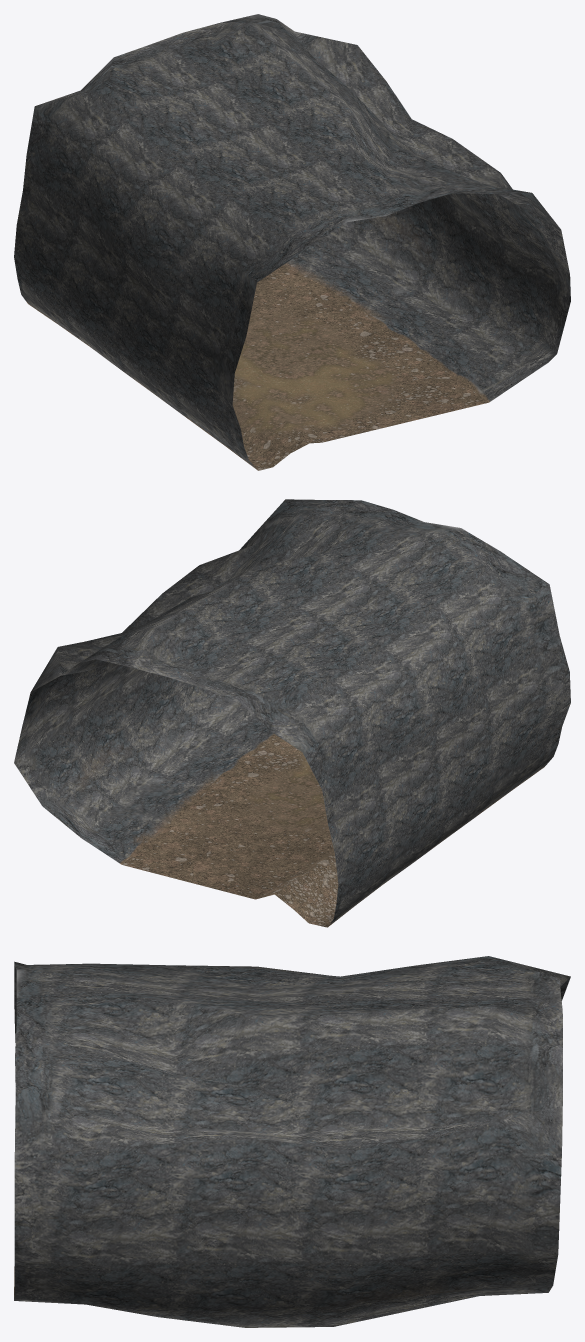
File: piece.obj
The picture shows the model from 3 angles, top to bottom: view 1: azimuth 30°, elevation 25°; view 2: azimuth 150°, elevation 25°; view 3: azimuth 270°, elevation 25°; orthographic projection. The views are drawn at different scales.
Parts seen in each view (by area): view 1: TunnelA8__1_; view 2: TunnelA8__1_; view 3: TunnelA8__1_.
Part boxes in pixels (x1,y1,x2,y2): TunnelA8__1_: (14,14,570,470); TunnelA8__1_: (14,499,570,927); TunnelA8__1_: (14,956,570,1327).
Size of the model in its own units: 4.3 by 2.93 by 5.12.
1 material, 1 textured.
